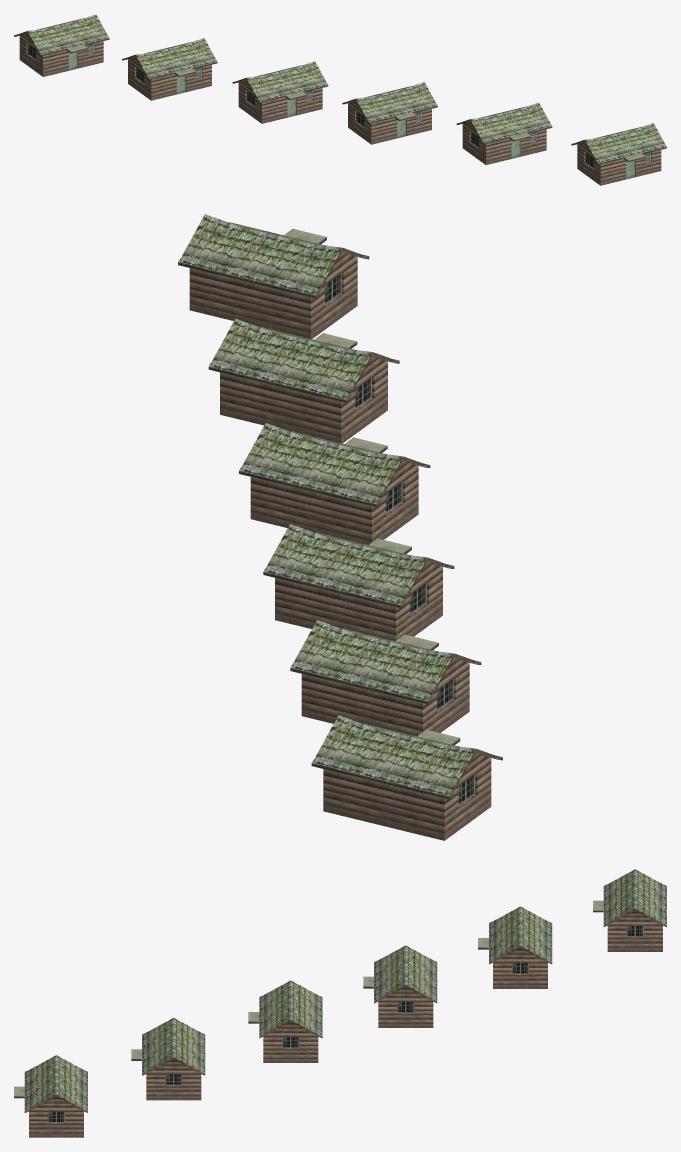
File: cw2_logcabins.obj
3 renders of one model, top to bottom at view 1: azimuth 30°, elevation 25°; view 2: azimuth 150°, elevation 25°; view 3: azimuth 270°, elevation 25°, orthographic. The views are drawn at different scales.
Parts seen in each view (by area): view 1: cw2_logcabins; view 2: cw2_logcabins; view 3: cw2_logcabins.
Boxes of the visible parts, <box> form: cw2_logcabins: <box>14,14,666,185</box>; cw2_logcabins: <box>178,214,502,840</box>; cw2_logcabins: <box>14,869,666,1137</box>.
Bounding box in the file's own units: 37.67 × 4.15 × 47.42.
7 materials, 7 textured.
